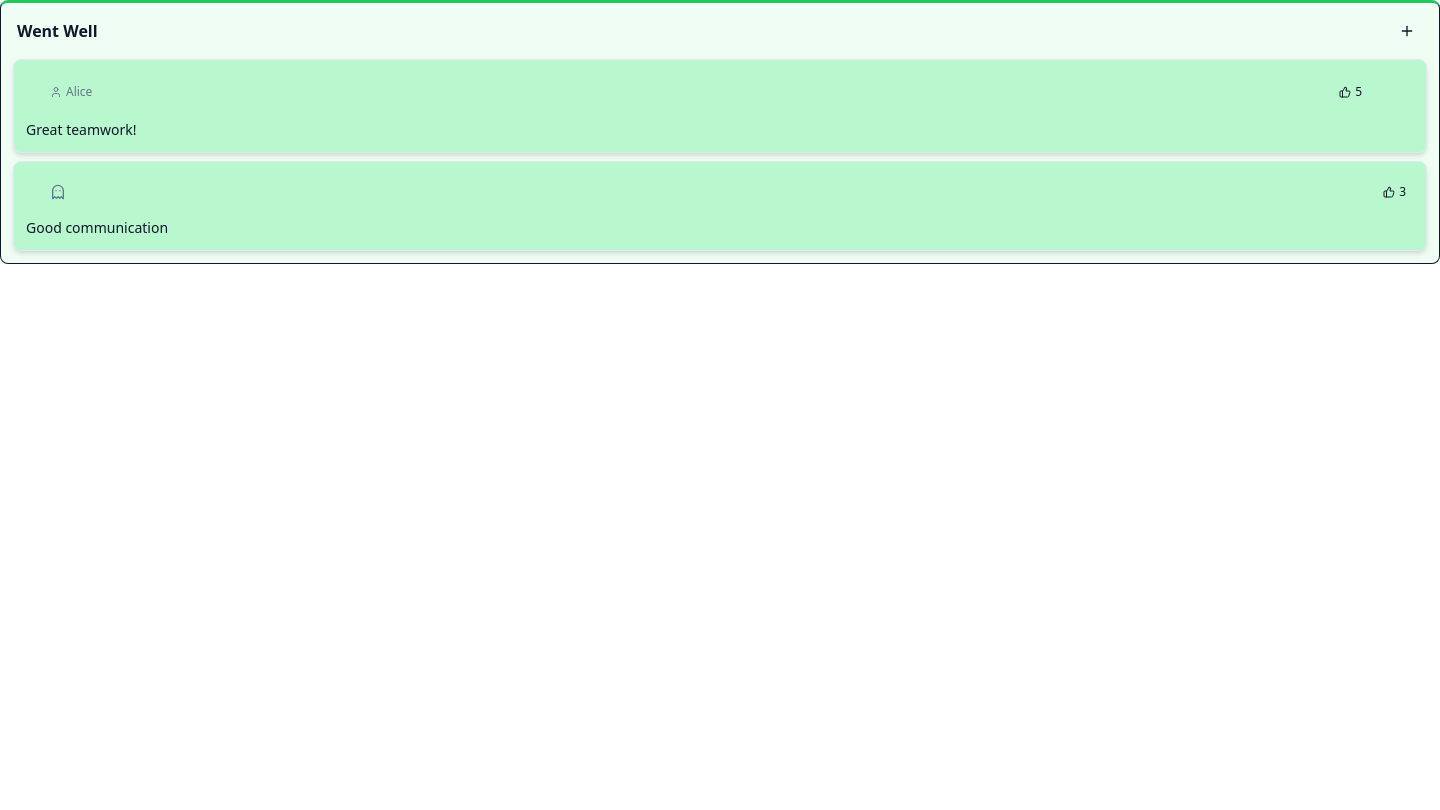
RetroColumn › Add Card › should show validation error for empty content
This screenshot has width=1440, height=810.
Click the button named "add card" at (1407, 31), box [1391,15,1423,47]
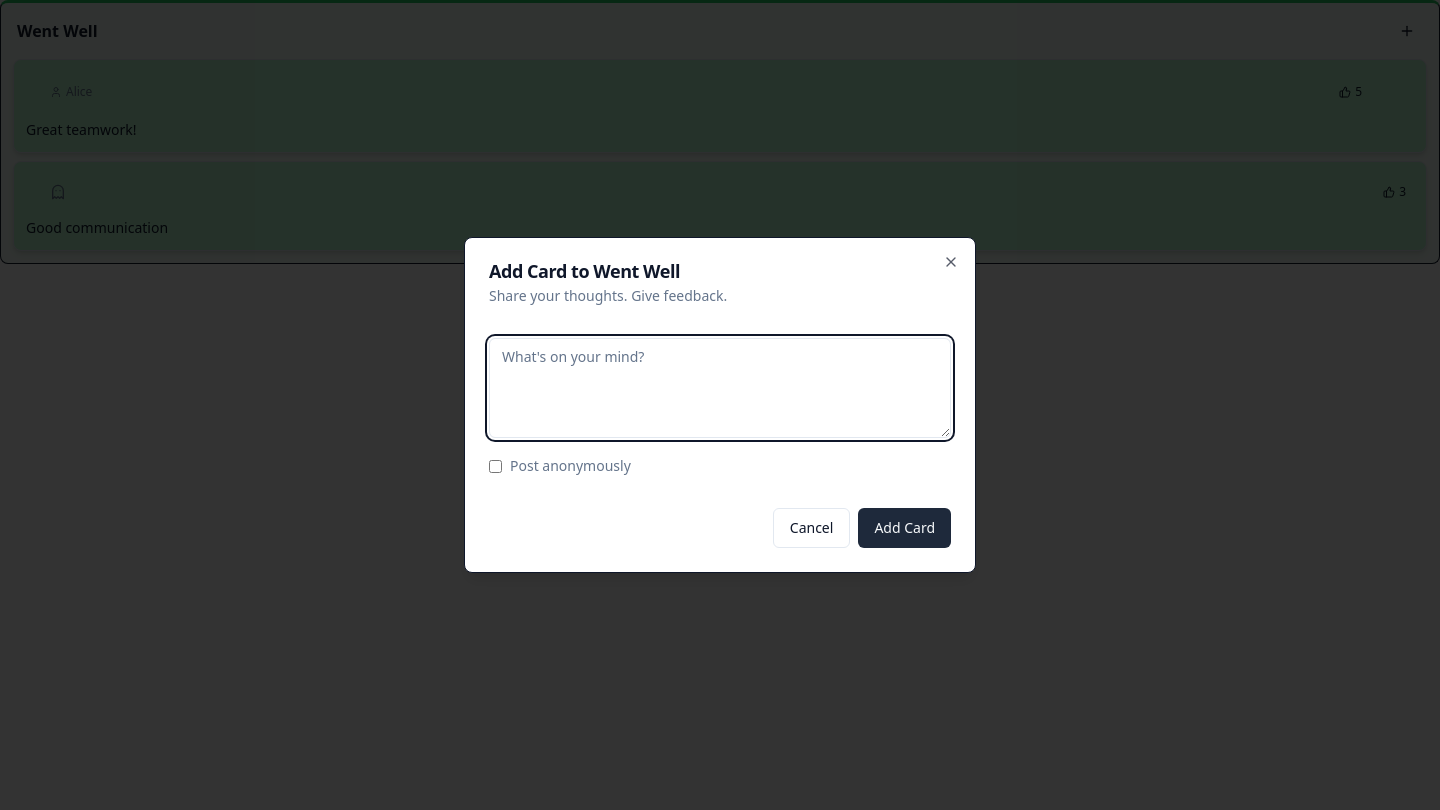
Click the button "Add Card" at (905, 528), box [858,508,951,548]
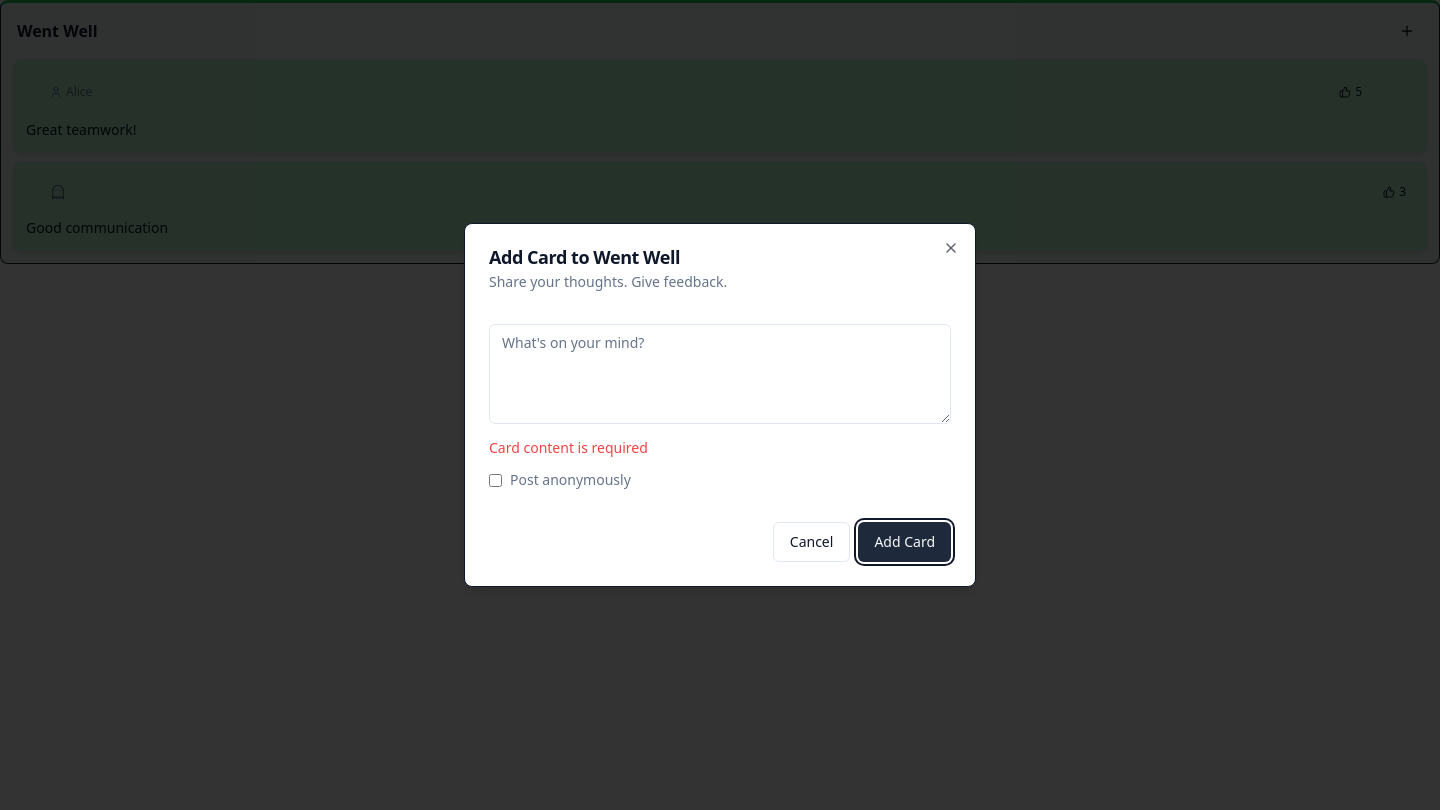
Check: the message "Card content is required" is shown, box [489,438,648,457]
